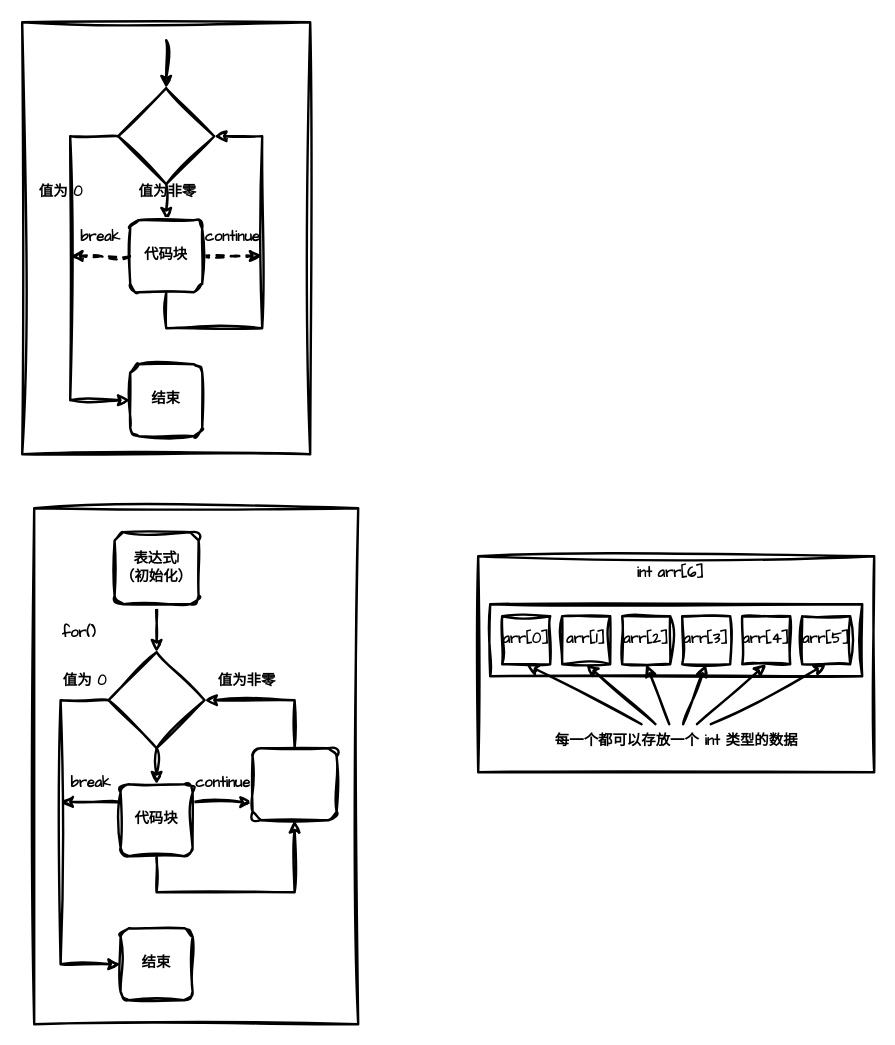
Image size: 895x1045. Some labels were removed from this diagram. The centre of each missing label's shape, as x and y in pixels:
"while(表达式)" belongs at (165,135).
"表达式2 （判断）" belongs at (156,699).
"表达式3 （调整）" belongs at (294,783).
